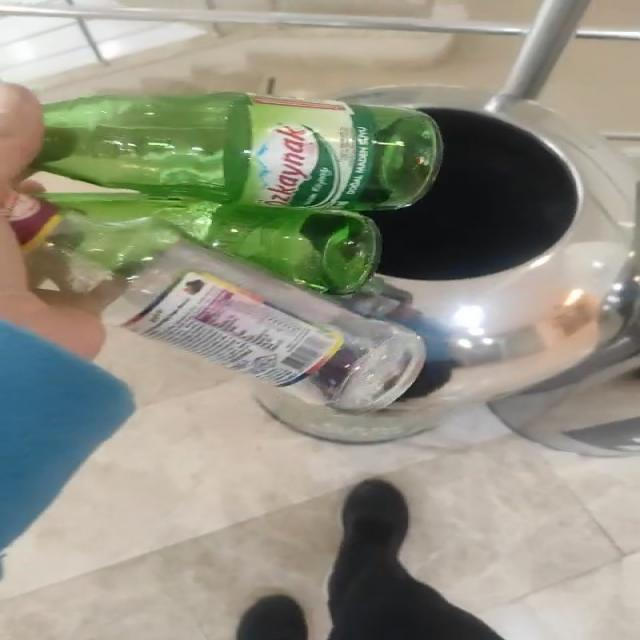glass: (0, 92, 443, 412)
